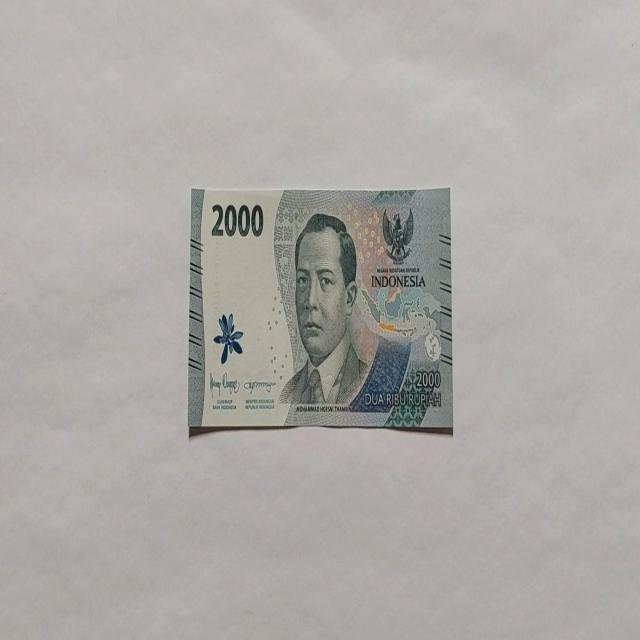dua ribu rupiah: (188, 185, 452, 435), (278, 212, 370, 410)
